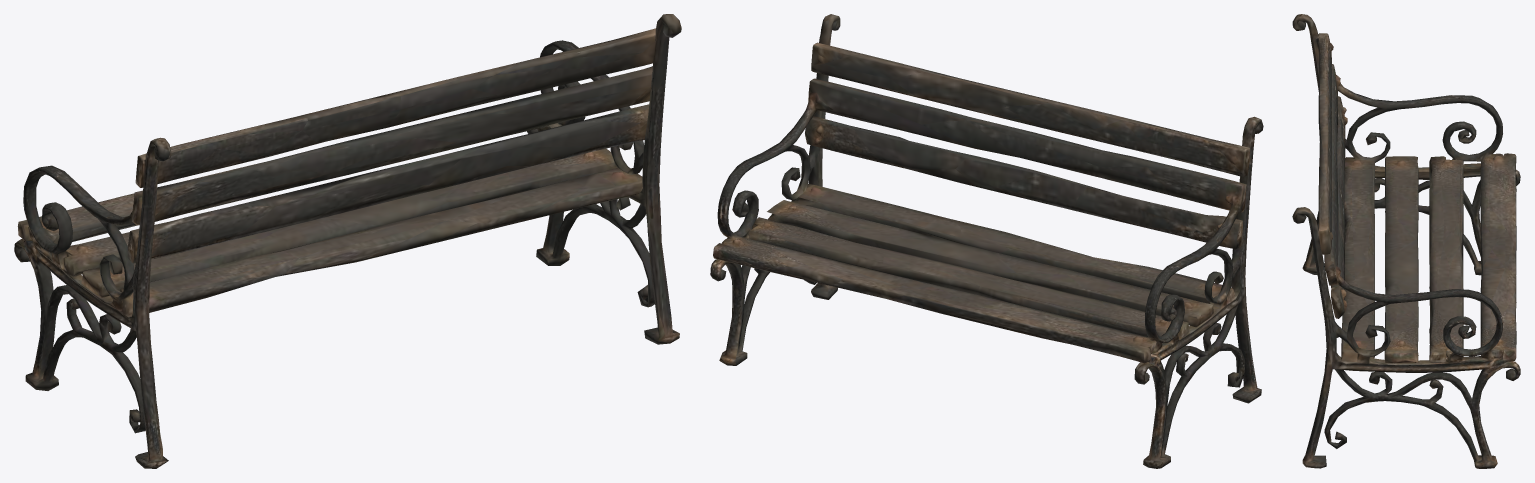
File: bench.glb
3 views of the same model, side by side, from view 1: azimuth 30°, elevation 25°; view 2: azimuth 150°, elevation 25°; view 3: azimuth 270°, elevation 25° (orthographic). The views are drawn at different scales.
Visible parts, largest first — view 1: tripo_node_71e83c7a-ca11-4287-9e74-247be482f7b0; view 2: tripo_node_71e83c7a-ca11-4287-9e74-247be482f7b0; view 3: tripo_node_71e83c7a-ca11-4287-9e74-247be482f7b0.
Boxes of the visible parts, box(x1,y1,x2,y2) form: tripo_node_71e83c7a-ca11-4287-9e74-247be482f7b0: box(14, 14, 681, 468); tripo_node_71e83c7a-ca11-4287-9e74-247be482f7b0: box(710, 14, 1263, 468); tripo_node_71e83c7a-ca11-4287-9e74-247be482f7b0: box(1292, 14, 1520, 468).
Bounding box in the file's own units: 1.59 × 0.95 × 0.7563.
1 material, 1 textured.
